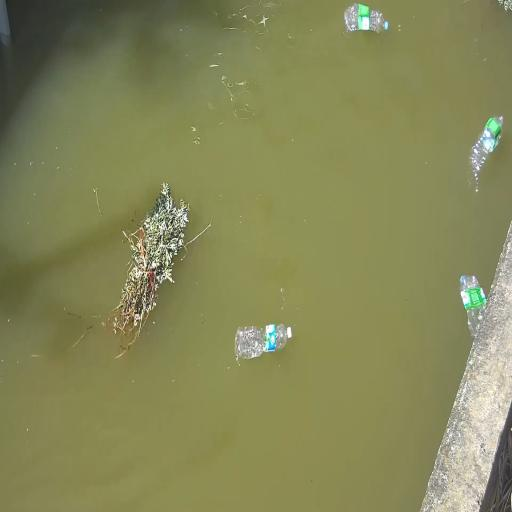plastic: (470, 117, 503, 191), (235, 324, 291, 359), (460, 276, 486, 338), (344, 4, 388, 32), (287, 327, 291, 338)
twig: (112, 182, 189, 355)
